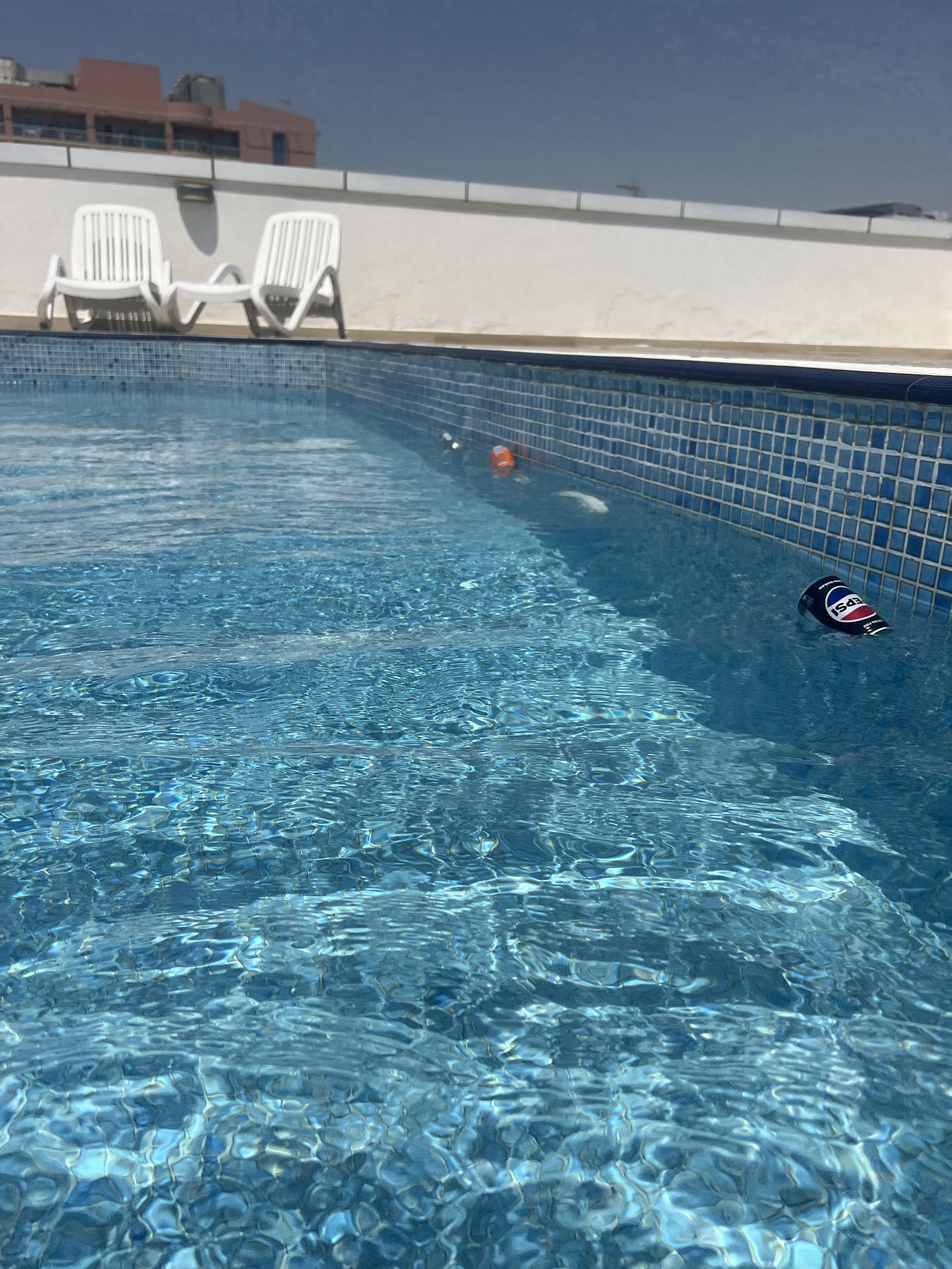debris: (792, 556, 897, 677), (486, 438, 517, 480), (435, 419, 465, 459)
